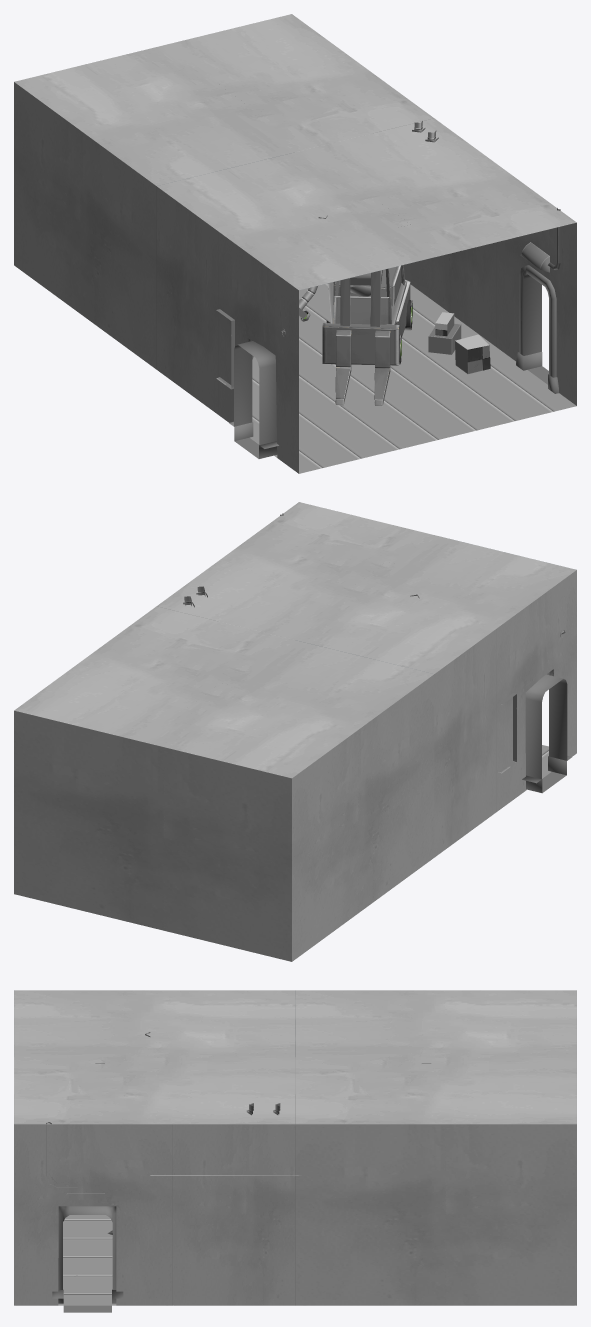
File: MHS_Storage_L2_R1_optimized.fbx
3 renders of one model, top to bottom at view 1: azimuth 30°, elevation 25°; view 2: azimuth 150°, elevation 25°; view 3: azimuth 270°, elevation 25°, orthographic.
Visible parts, largest first — view 1: lightmap2, lightmap0, lightmap-1; view 2: lightmap2, lightmap-1, lightmap0; view 3: lightmap2, lightmap0, lightmap-1.
Boxes of the visible parts, x1,y1,x2,y2 form: lightmap2: (14,14,576,473); lightmap0: (216,121,560,448); lightmap-1: (234,274,548,458); lightmap2: (14,502,576,961); lightmap-1: (525,674,567,793); lightmap0: (183,513,571,783); lightmap2: (14,990,576,1305); lightmap0: (46,1032,430,1303); lightmap-1: (63,1206,112,1312).
Size of the model in its own units: 10.3 by 6.2 by 16.51.
